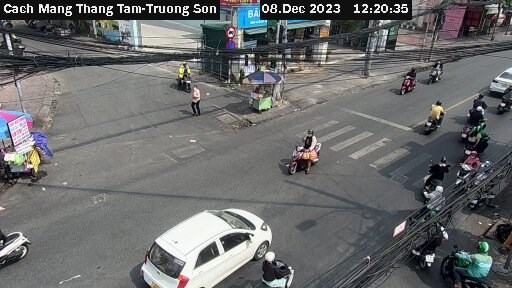car: (136, 204, 268, 288)
motorbike: (447, 241, 502, 288), (285, 132, 334, 180), (1, 218, 36, 269), (412, 155, 452, 198), (257, 252, 306, 284), (167, 62, 209, 91), (426, 55, 453, 91), (423, 99, 448, 136), (396, 62, 415, 93)
